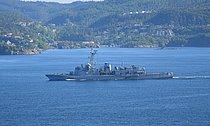MIL_Ship: (44, 49, 175, 82)
